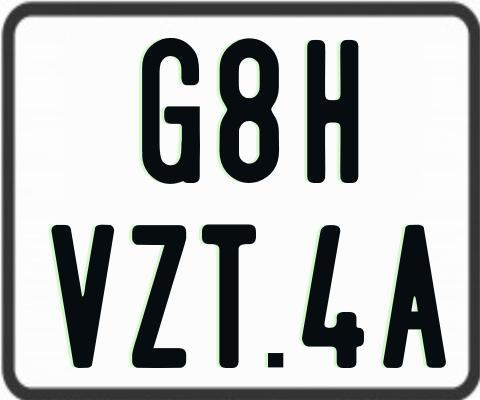4: (301, 223, 363, 371)
8: (219, 36, 279, 186)
A: (380, 222, 447, 369)
G: (141, 38, 200, 185)
H: (307, 37, 359, 182)
T: (199, 223, 259, 371)
V: (48, 223, 114, 371)
Z: (129, 225, 188, 369)
